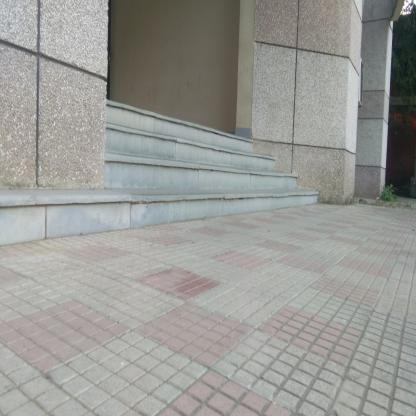stairs: (110, 135, 233, 232)
